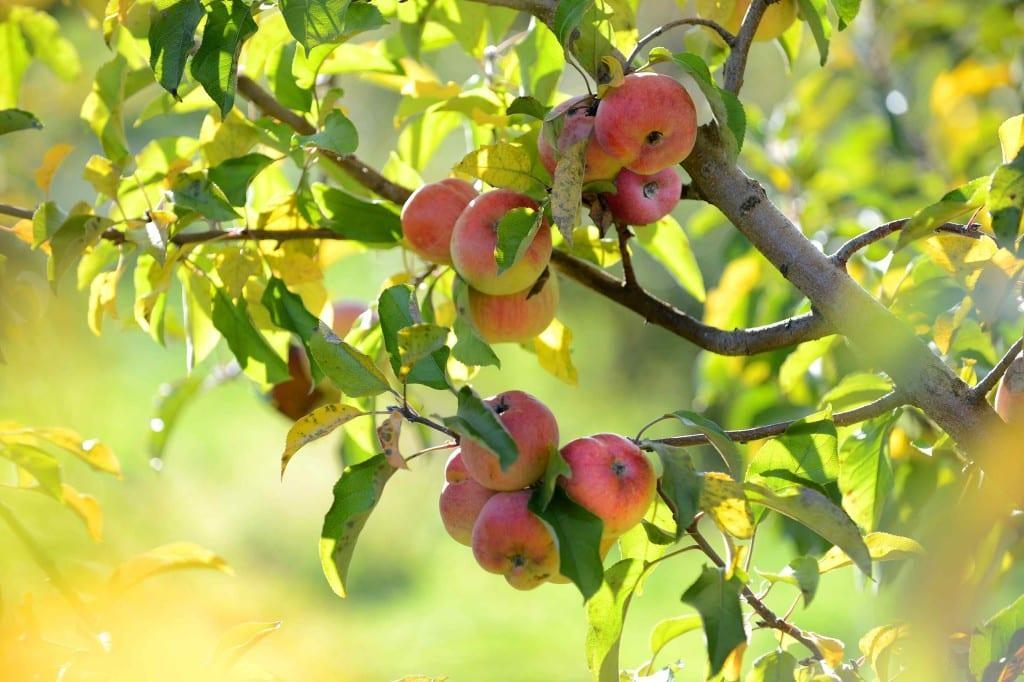apple: (446, 188, 555, 295), (594, 69, 699, 179), (460, 387, 560, 494), (559, 431, 657, 537), (472, 488, 560, 589), (399, 178, 483, 268), (465, 269, 557, 343), (610, 164, 683, 227)
